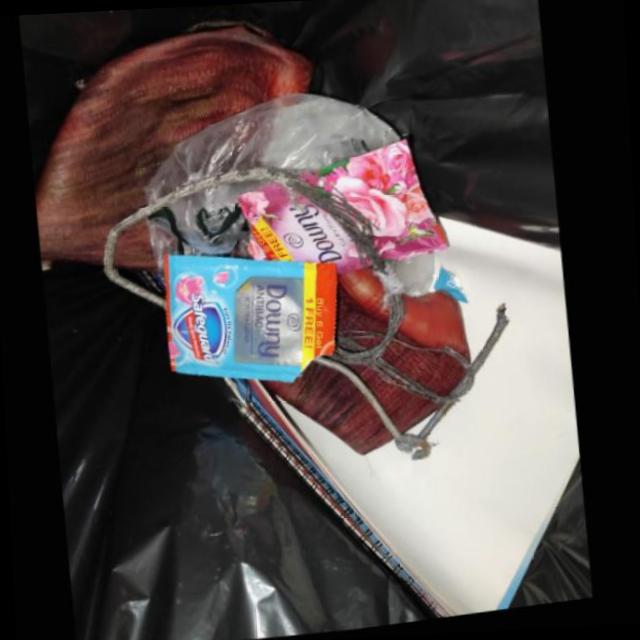carton: (226, 225, 582, 625)
goi_nhua_nho: (243, 147, 454, 280), (169, 258, 343, 388)
tui_ni_long: (150, 99, 411, 279)
vo_rau_cu: (41, 25, 322, 268), (263, 275, 475, 462)
